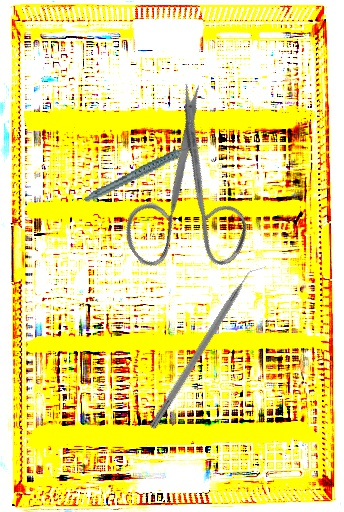Chopper: (148, 258, 269, 436)
Handpiece: (77, 143, 207, 204)
Iris Scissors: (69, 76, 294, 305)
